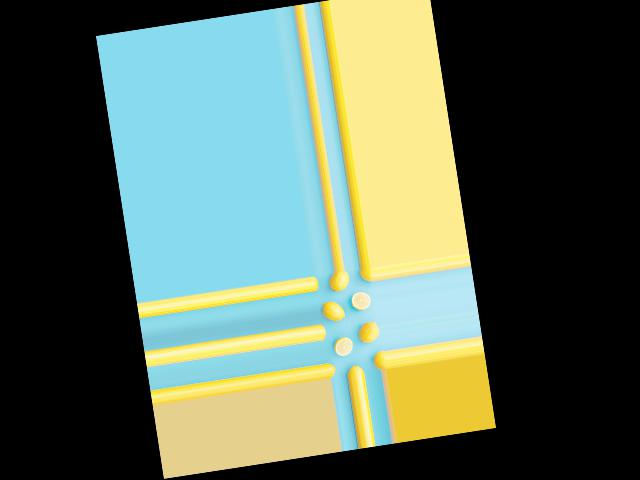lemon: (356, 266, 373, 285)
